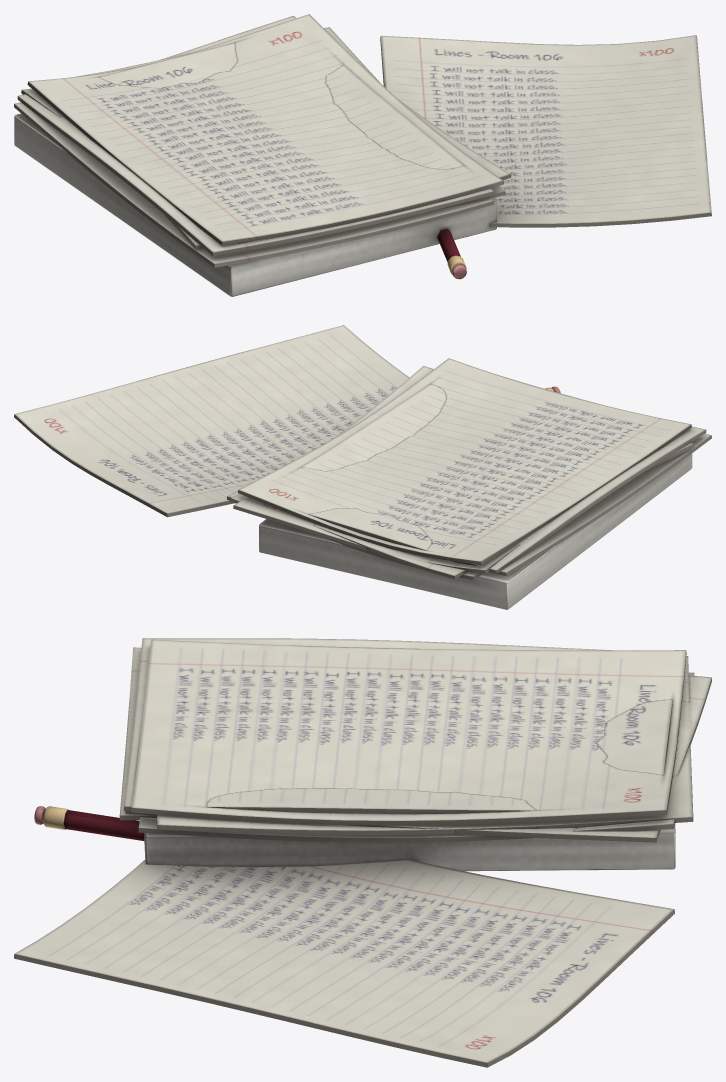
File: LinesPaperStack.fbx
3 renders of one model, top to bottom at view 1: azimuth 30°, elevation 25°; view 2: azimuth 150°, elevation 25°; view 3: azimuth 270°, elevation 25°, orthographic. The views are drawn at different scales.
Parts seen in each view (by area): view 1: LinesPaperStack; view 2: LinesPaperStack; view 3: LinesPaperStack.
Boxes of the visible parts, left/top/right/bottom form: LinesPaperStack: left=14, top=14, right=711, bottom=296; LinesPaperStack: left=14, top=325, right=711, bottom=609; LinesPaperStack: left=14, top=638, right=711, bottom=1067.
Bounding box in the file's own units: 145 × 13.9 × 112.
